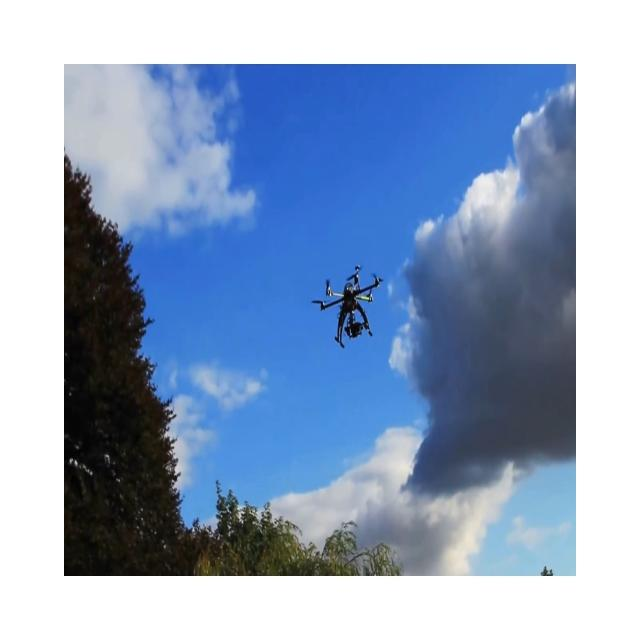drone: (311, 264, 383, 348)
